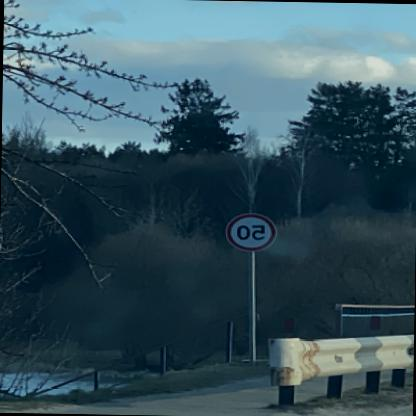speedlimit: (226, 211, 278, 251)
